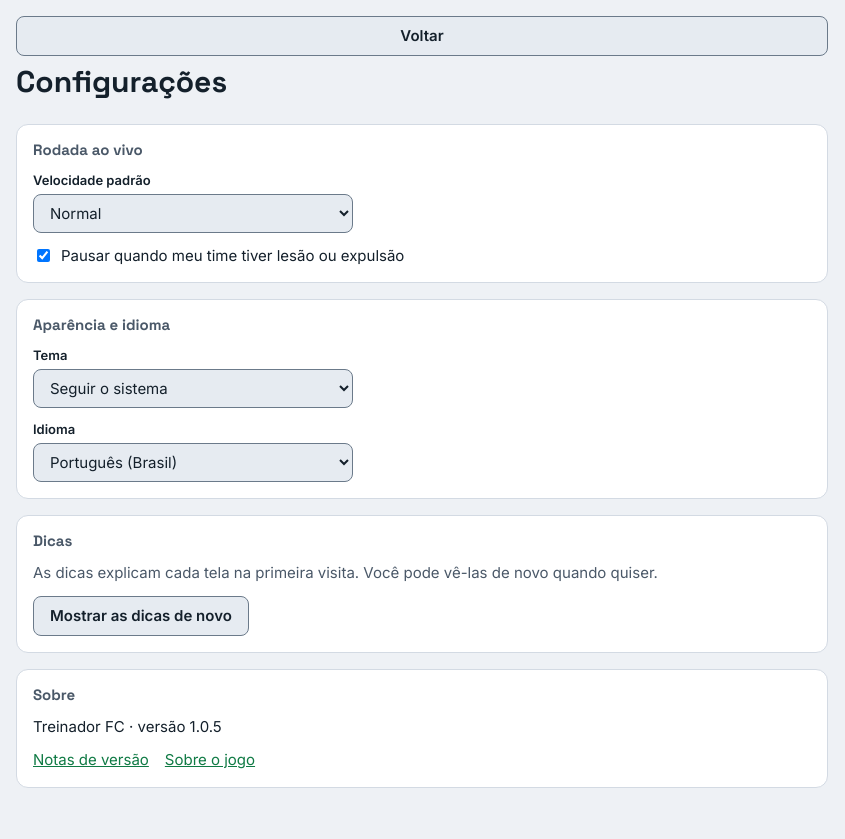
Test case: Configurações (031 US4) › mostrar as dicas de novo confirma em texto que elas voltarão
Click the button "Mostrar as dicas de novo": (141, 616) [33, 596, 249, 636]
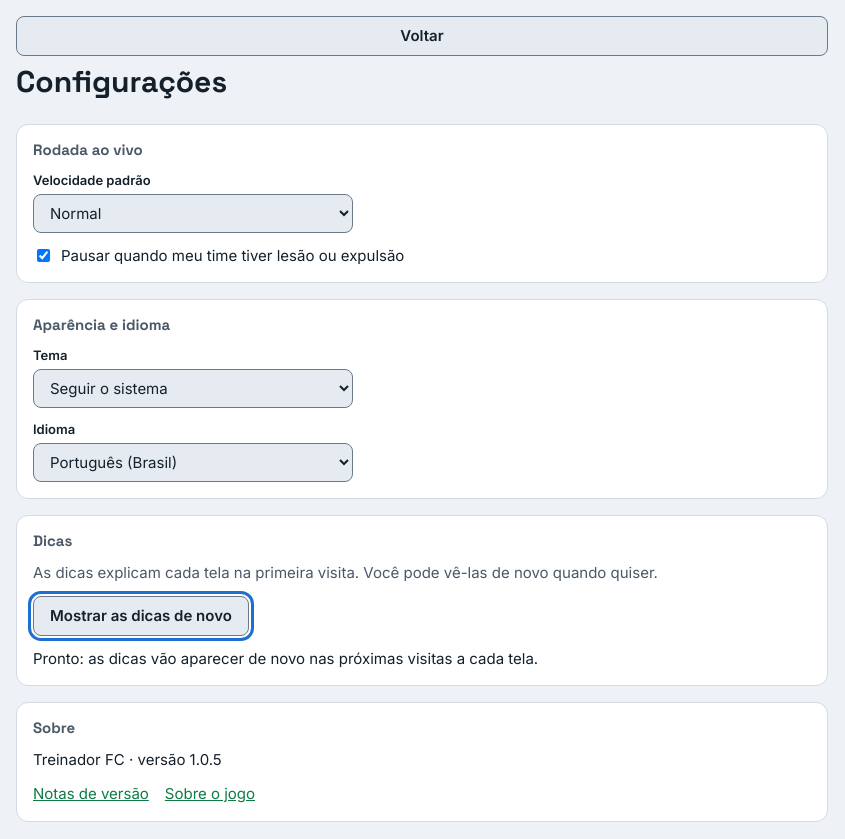
Expected: the message reads "Pronto: as dicas vão aparecer de novo nas próximas visitas a cada tela.", [33, 648, 538, 668]
